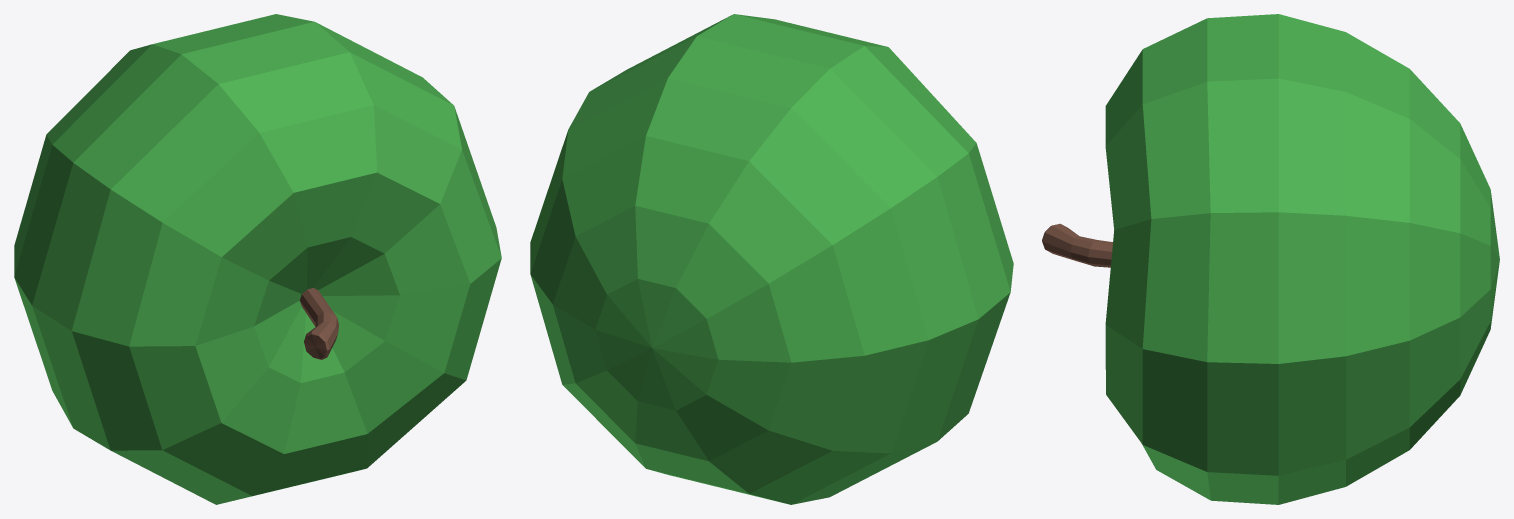
File: bf605366-baa1-47ed-a479-35894685999a.glb
3 renders of one model, left to right at view 1: azimuth 30°, elevation 25°; view 2: azimuth 150°, elevation 25°; view 3: azimuth 270°, elevation 25°, orthographic.
Visible parts, largest first — view 1: pasted__pSphere3 group; view 2: pasted__pSphere3 group; view 3: pasted__pSphere3 group.
Boxes of the visible parts, box(x1,y1,x2,y2) form: pasted__pSphere3 group: box(14, 14, 501, 504); pasted__pSphere3 group: box(530, 14, 1013, 504); pasted__pSphere3 group: box(1042, 14, 1499, 504).
Size of the model in its own units: 49.26 by 46.85 by 45.61.
